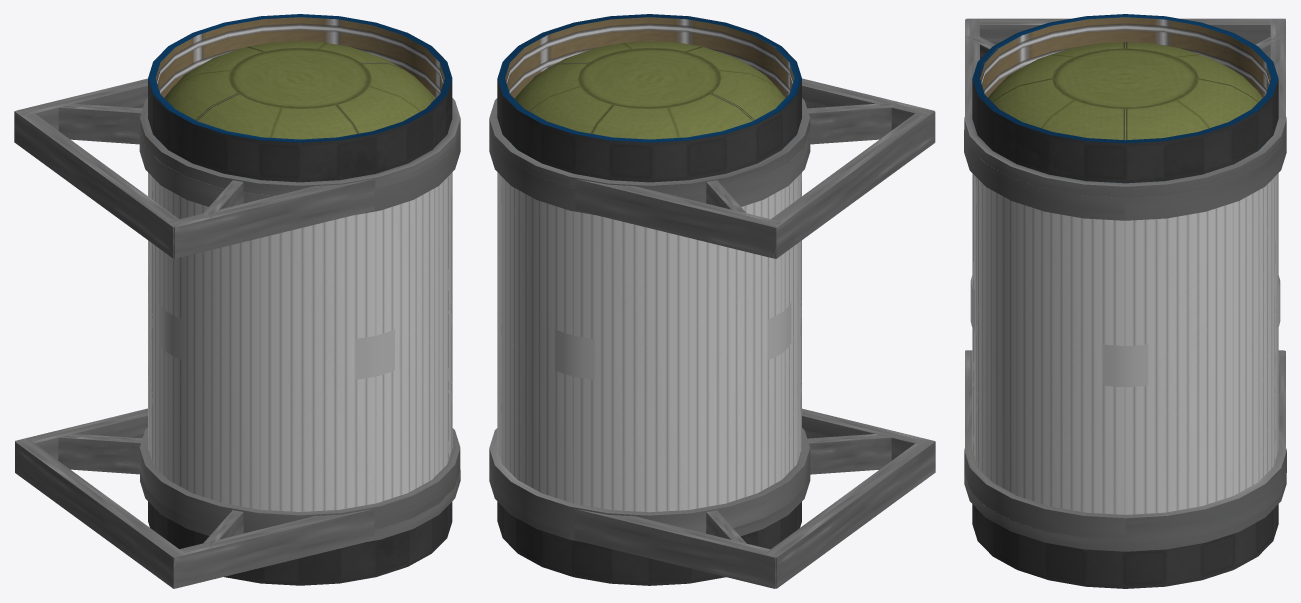
The model's file is FLM-450S.FBX.
The picture shows the model from 3 angles, left to right: view 1: azimuth 30°, elevation 25°; view 2: azimuth 150°, elevation 25°; view 3: azimuth 270°, elevation 25°; orthographic projection.
Parts seen in each view (by area): view 1: Cylinder002, TankSleeve001, EndCap001, TankSleeve002, Box006, Box007, Box011, Box003, MountingBracketBand002, BarrelBand003, MountingBracketBand001, Box009 (+8 smaller); view 2: Cylinder002, TankSleeve001, EndCap001, TankSleeve002, Box001, Box010, Box011, Box003, MountingBracketBand002, BarrelBand003, MountingBracketBand001, Box005 (+8 smaller); view 3: Cylinder002, TankSleeve001, EndCap001, TankSleeve002, MountingBracketBand002, MountingBracketBand001, BarrelBand003, BarrelBand002, Box003, decalPanel002, Box001, Box006 (+2 smaller).
Boxes of the visible parts, x1,y1,x2,y2 form: Cylinder002: (148,172,452,511); TankSleeve001: (148,14,452,182); EndCap001: (156,41,447,182); TankSleeve002: (148,501,452,585); Box006: (168,179,375,258); Box007: (175,509,374,588); Box011: (15,438,185,588); Box003: (14,110,178,258); MountingBracketBand002: (139,427,460,533); BarrelBand003: (140,98,460,195); MountingBracketBand001: (139,129,460,215); Box009: (51,432,142,474); Cylinder002: (497,172,801,512); TankSleeve001: (497,14,801,182); EndCap001: (512,41,796,182); TankSleeve002: (497,501,801,585); Box001: (575,179,781,258); Box010: (574,509,775,588); Box011: (764,440,935,588); Box003: (771,111,935,258); MountingBracketBand002: (489,428,810,533); BarrelBand003: (489,98,810,195); MountingBracketBand001: (489,129,810,215); Box005: (807,102,898,144); Cylinder002: (972,173,1278,514); TankSleeve001: (972,14,1278,183); EndCap001: (985,42,1265,183); TankSleeve002: (972,504,1278,588); MountingBracketBand002: (964,430,1286,540); MountingBracketBand001: (964,130,1286,220); BarrelBand003: (964,98,1286,197); BarrelBand002: (964,473,1286,551); Box003: (966,18,1285,44); decalPanel002: (1102,344,1148,387); Box001: (1270,19,1285,115); Box006: (965,19,979,115).
Size of what is drawn, in the model's own units: 0.8151 by 0.6564 by 1.
